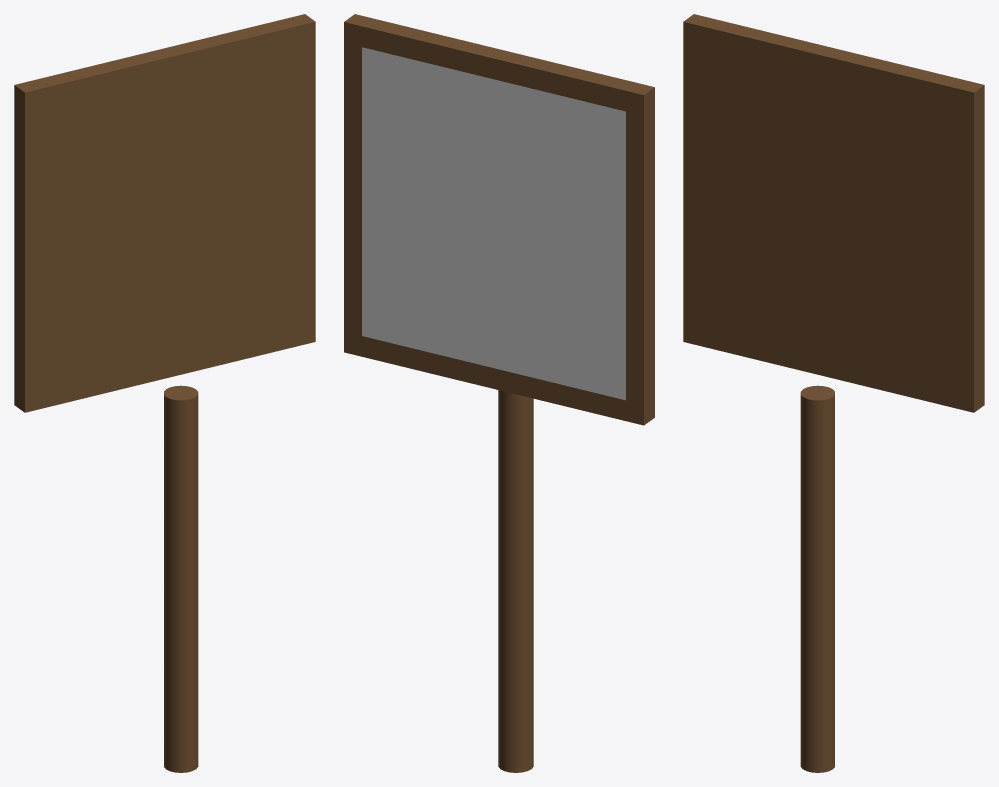
The model's file is tafel.FBX.
3 renders of one model, left to right at view 1: azimuth 30°, elevation 25°; view 2: azimuth 150°, elevation 25°; view 3: azimuth 330°, elevation 25°, orthographic. The views are drawn at different scales.
Parts seen in each view (by area): view 1: Box001, Cylinder001; view 2: Box001, Cylinder001; view 3: Box001, Cylinder001.
Boxes of the visible parts, left/top/right/bottom form: Box001: left=14, top=14, right=315, bottom=412; Cylinder001: left=164, top=385, right=198, bottom=772; Box001: left=344, top=14, right=654, bottom=425; Cylinder001: left=498, top=390, right=533, bottom=772; Box001: left=683, top=14, right=984, bottom=412; Cylinder001: left=800, top=385, right=834, bottom=772.
Size of the model in its own units: 8.45 by 19.45 by 1.51.
